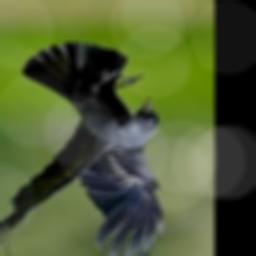Crow: (0, 43, 164, 256)
